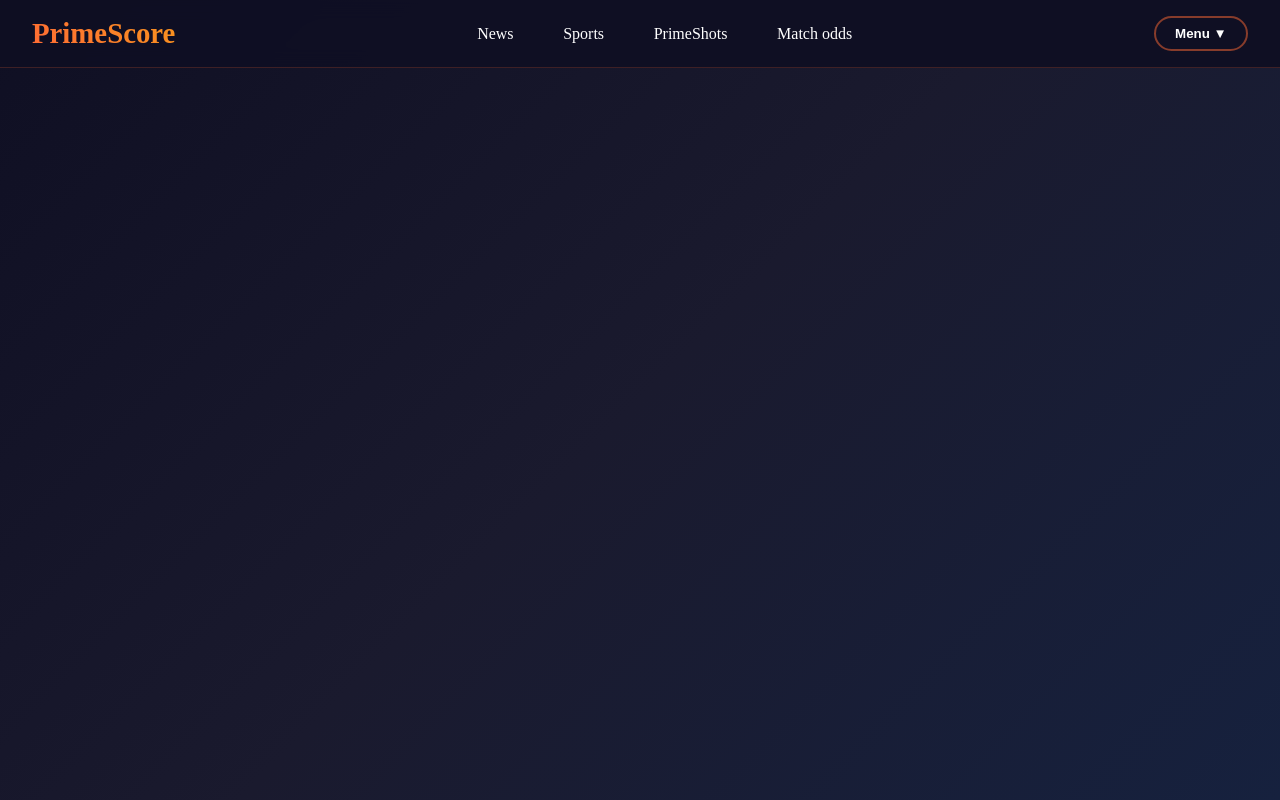
Test case: Navbar › toggles dropdown menu
Step 1. Click the button "Menu ▼" → (1201, 34), box x1=1154 y1=16 x2=1248 y2=51
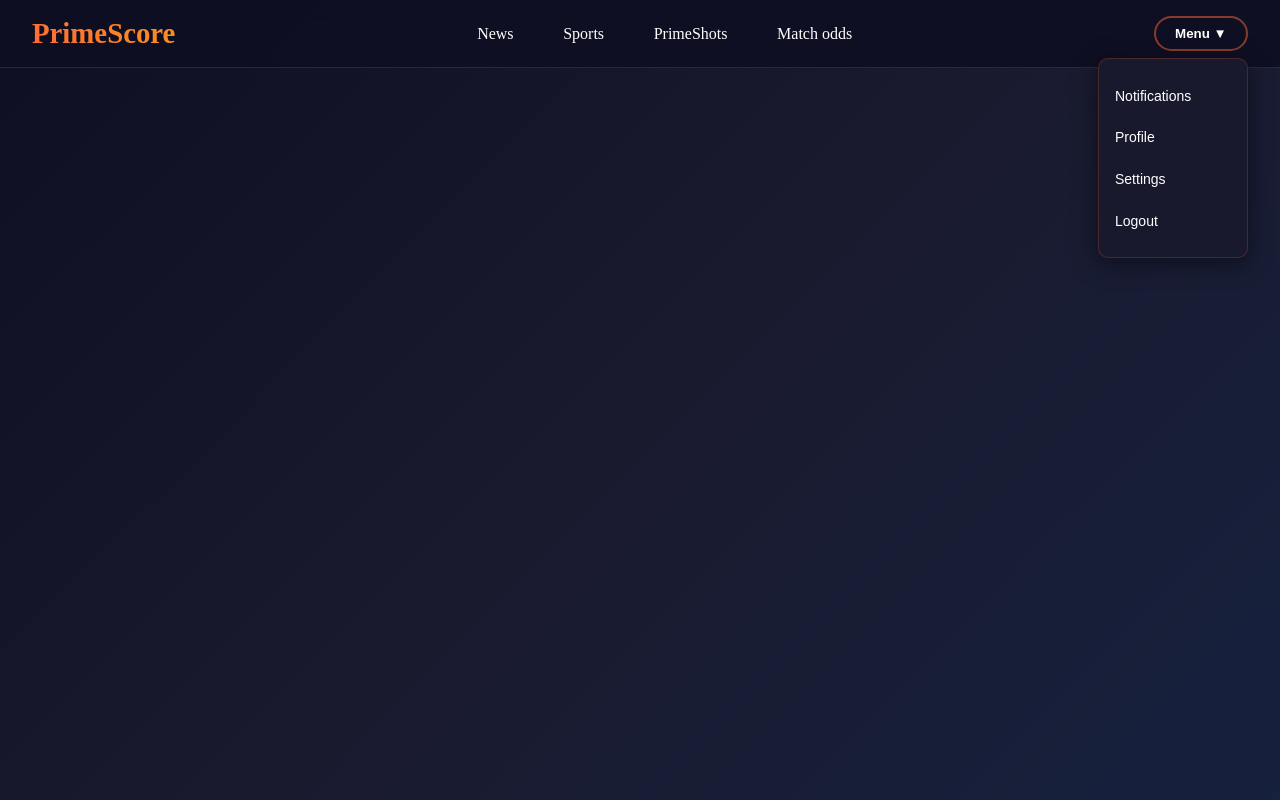
Expected: the menu is shown, x1=1098 y1=58 x2=1248 y2=258
